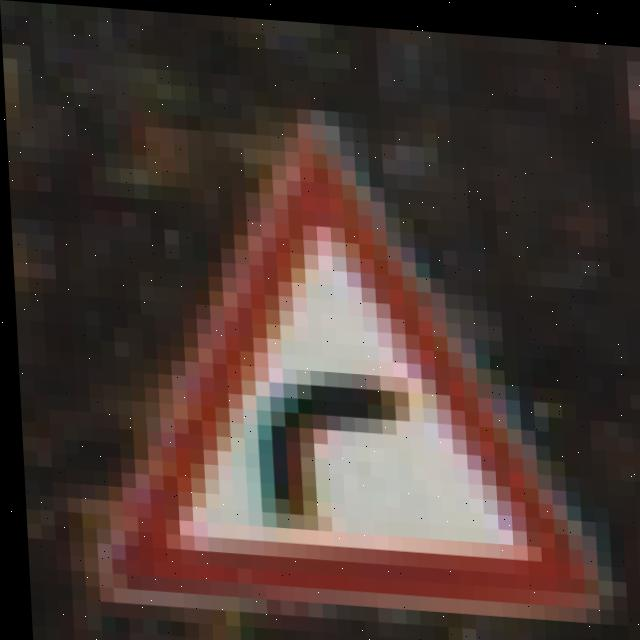right_turn: (119, 122, 620, 640)
